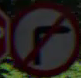Don't turn right: (14, 8, 67, 69)
